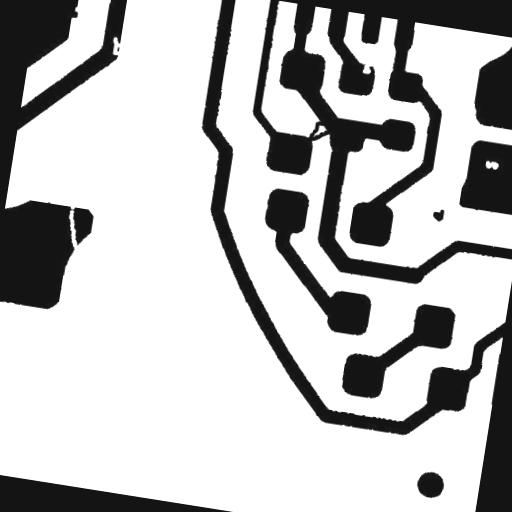copper: (423, 199, 452, 230)
mousebite: (102, 27, 132, 64), (353, 51, 381, 82)
open: (54, 192, 96, 264)
pin-hole: (476, 151, 506, 178)
short: (296, 110, 343, 153)
spur: (57, 0, 88, 28)
